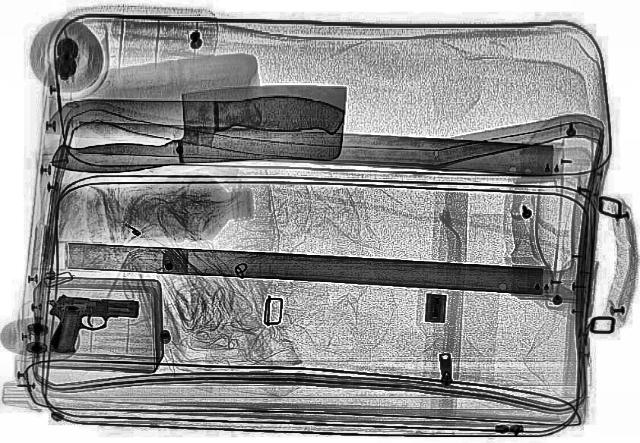Gun: (41, 294, 143, 356)
Knife: (38, 80, 356, 176), (38, 94, 344, 140)
